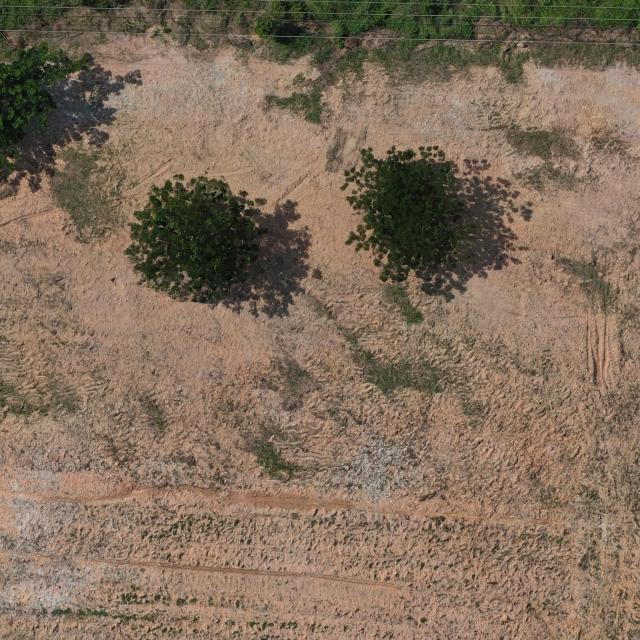Tree: (339, 143, 470, 299), (122, 170, 274, 304), (0, 39, 95, 186)
